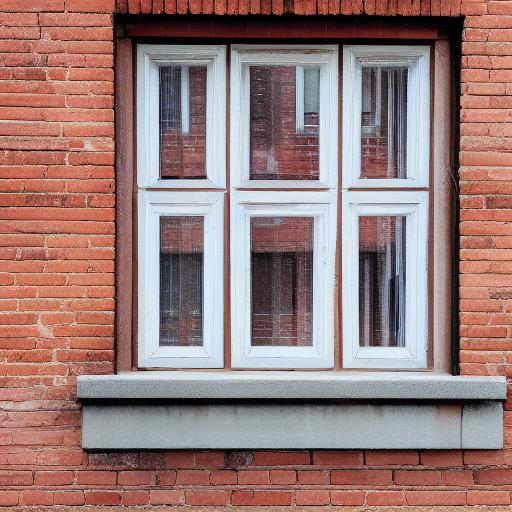Window: (76, 1, 507, 455)
